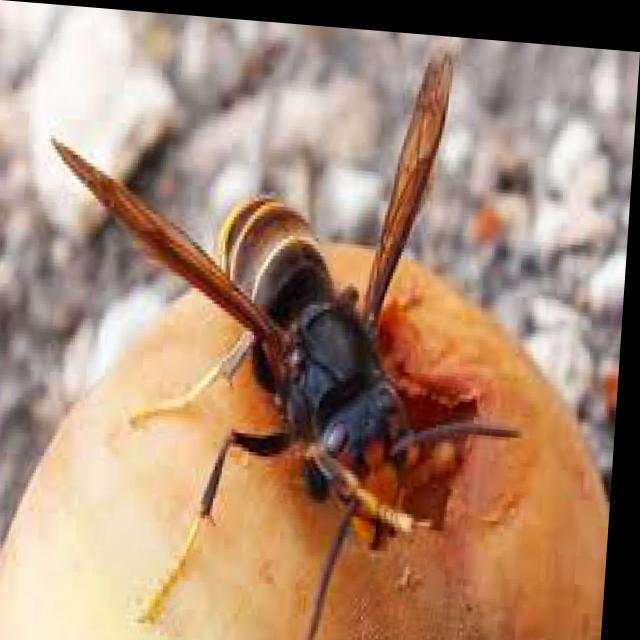Vespa Velutina: (13, 3, 562, 639)
